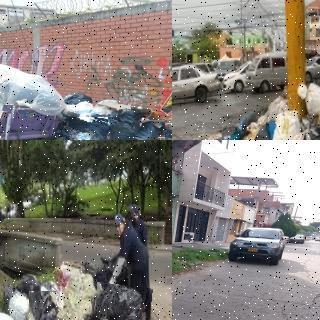Garbage: (88, 283, 150, 320), (61, 114, 109, 140), (272, 108, 301, 140), (29, 291, 56, 320), (297, 82, 320, 115), (107, 121, 142, 140), (134, 120, 165, 140), (15, 273, 40, 295), (119, 107, 143, 124), (250, 124, 270, 140)
